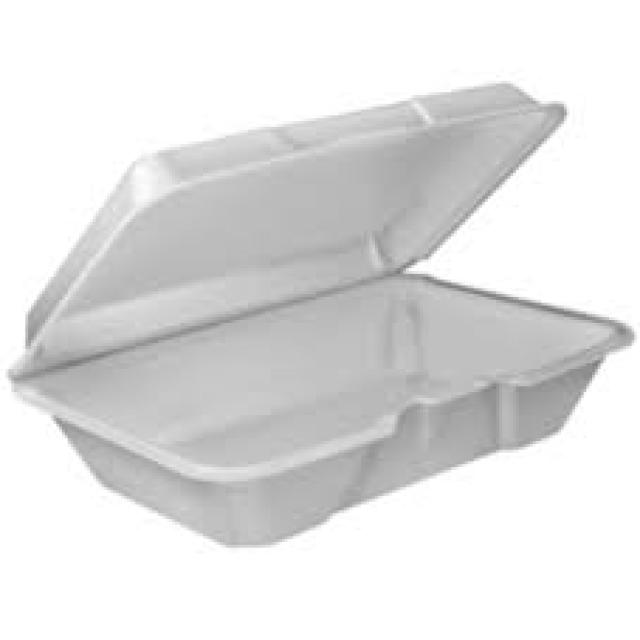styrofoam: (10, 84, 631, 544)
